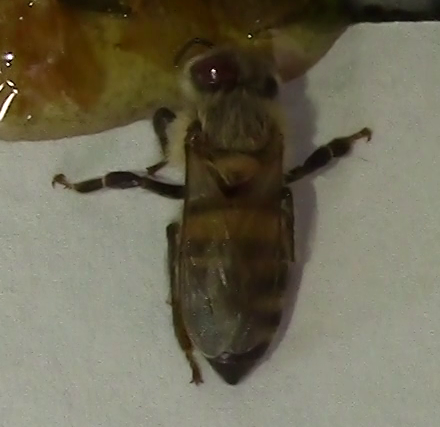Varroa destructor: (188, 49, 246, 95)
